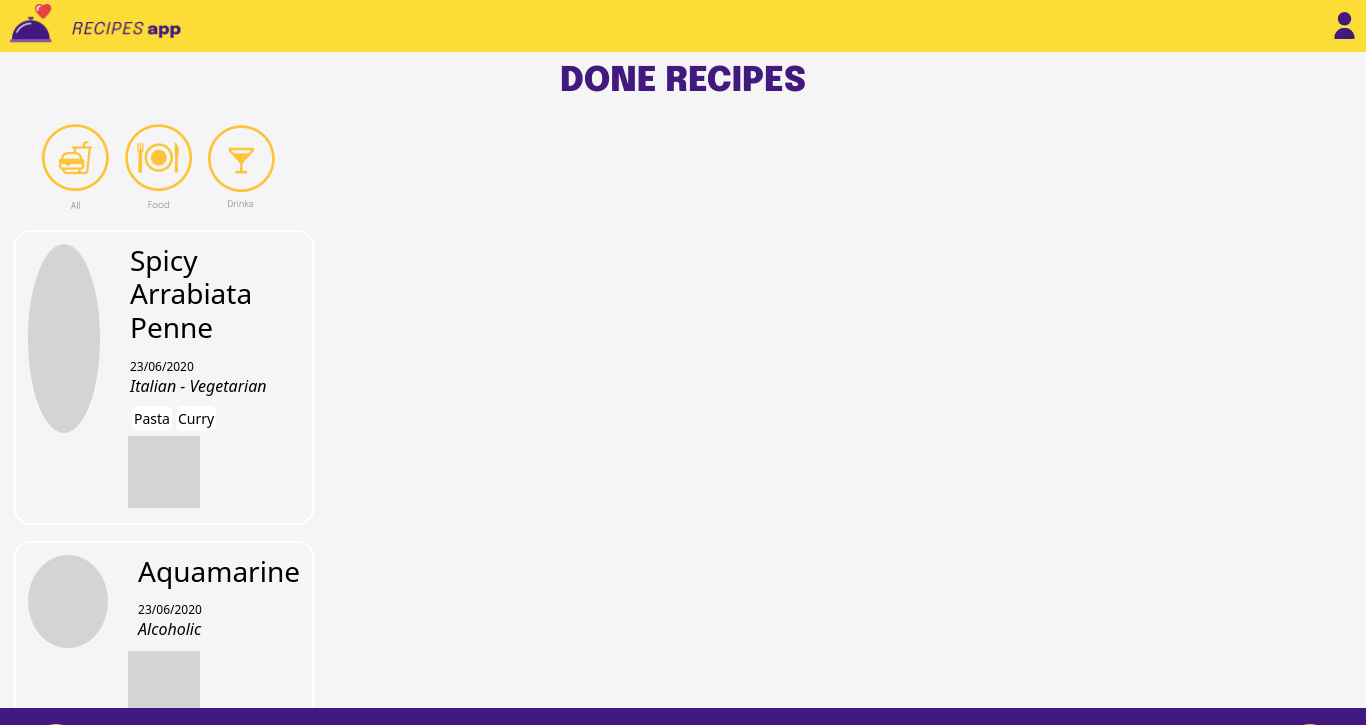
Test: Testa os botões de filtragem › Testa se ao clicar no botão Drinks aparece somente as receitas do tipo Drink
expect the picture with test id "filter-by-drink-btn" is shown: met, box [208, 125, 275, 209]
Click the button with test id "filter-by-drink-btn": x=242, y=167 [202, 123, 281, 212]
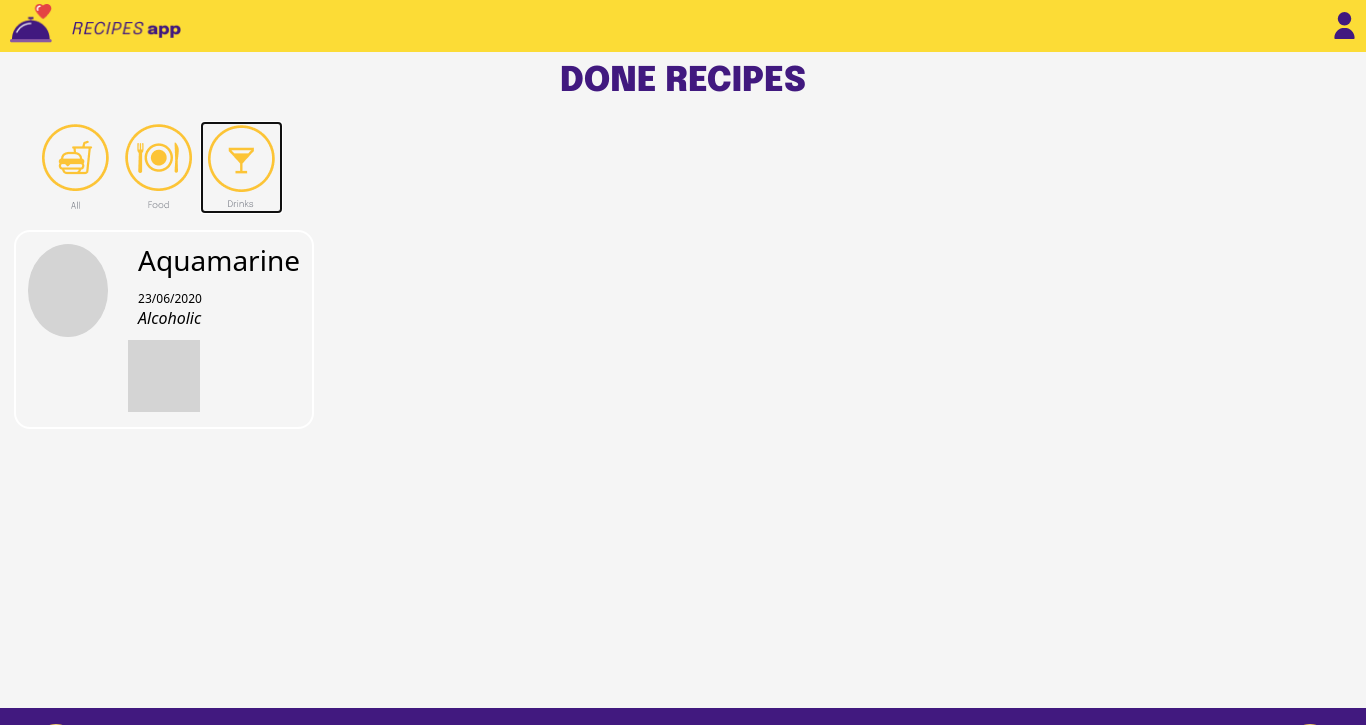
expect the heading "Aquamarine" is shown: met, box [138, 244, 300, 277]
expect the heading with test id "1-horizontal-name" is gone: met
